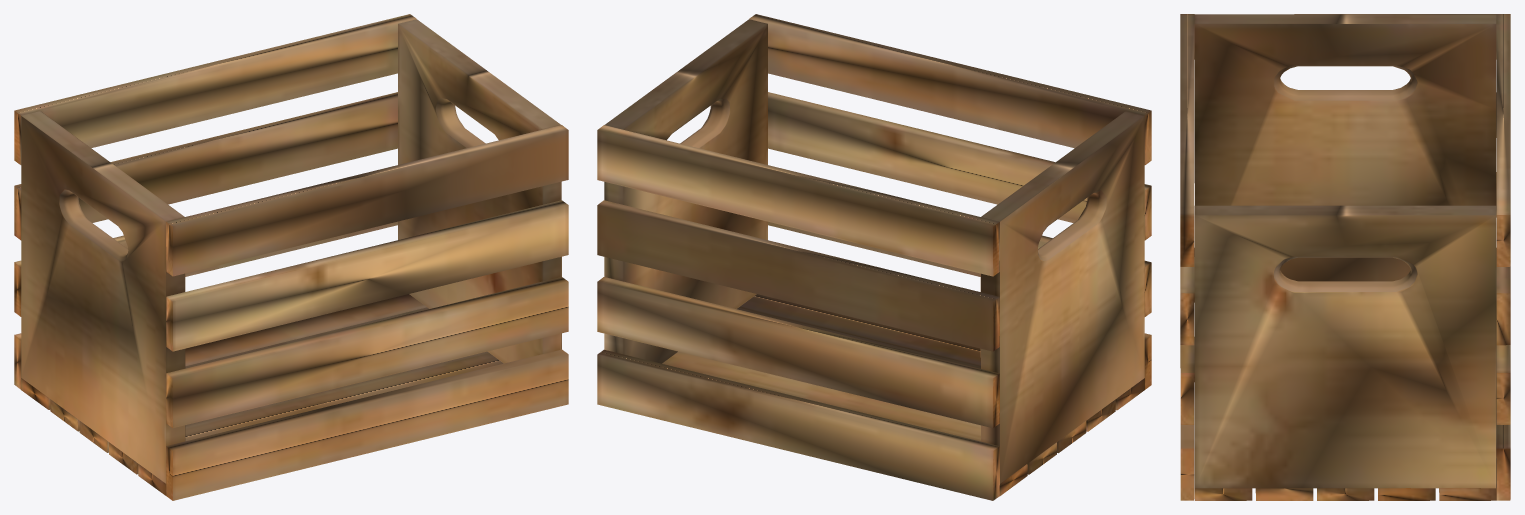
File: wooden-crate.lod0.glb
3 renders of one model, left to right at view 1: azimuth 30°, elevation 25°; view 2: azimuth 150°, elevation 25°; view 3: azimuth 270°, elevation 25°, orthographic. The views are drawn at different scales.
Parts seen in each view (by area): view 1: Object_4; view 2: Object_4; view 3: Object_4.
Boxes of the visible parts, x1,y1,x2,y2 form: Object_4: (14, 14, 568, 500); Object_4: (597, 14, 1151, 500); Object_4: (1180, 14, 1510, 500).
Bounding box in the file's own units: 0.8998 × 0.5964 × 0.6244.
Materials: 1 (1 with a texture image).
